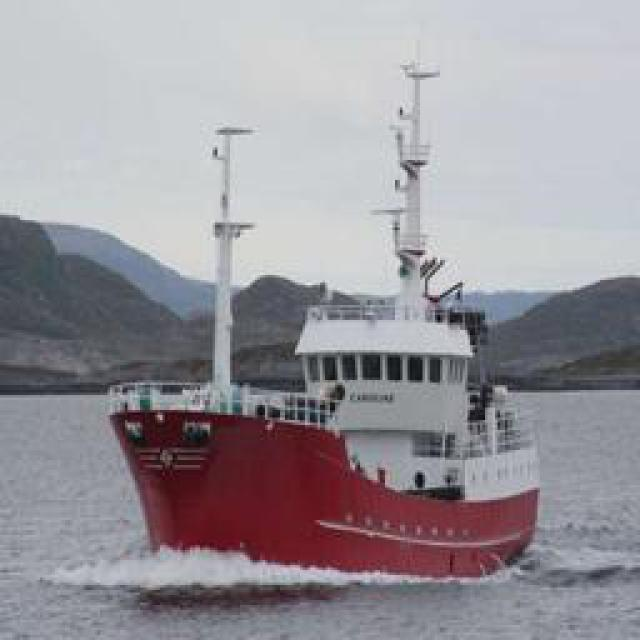Ship: (109, 98, 534, 586)
